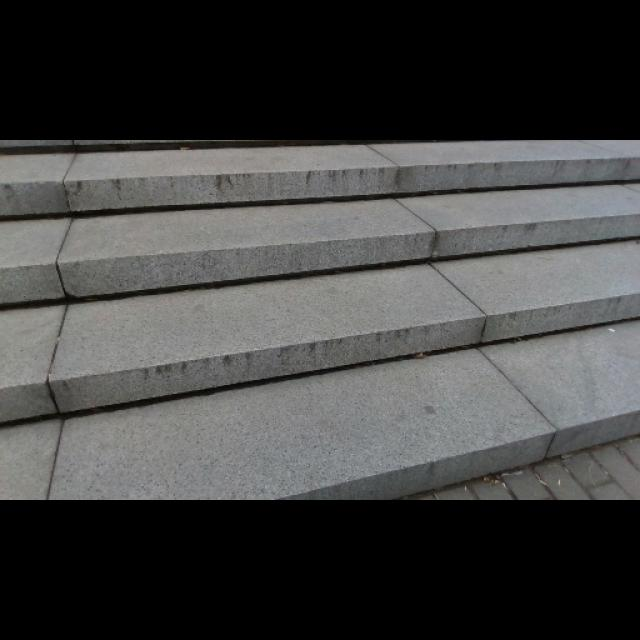Stairs: (0, 140, 639, 499)
